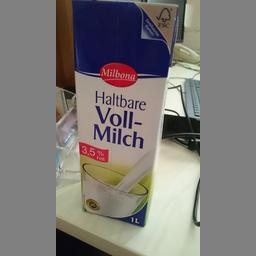milk: (68, 0, 180, 234)
